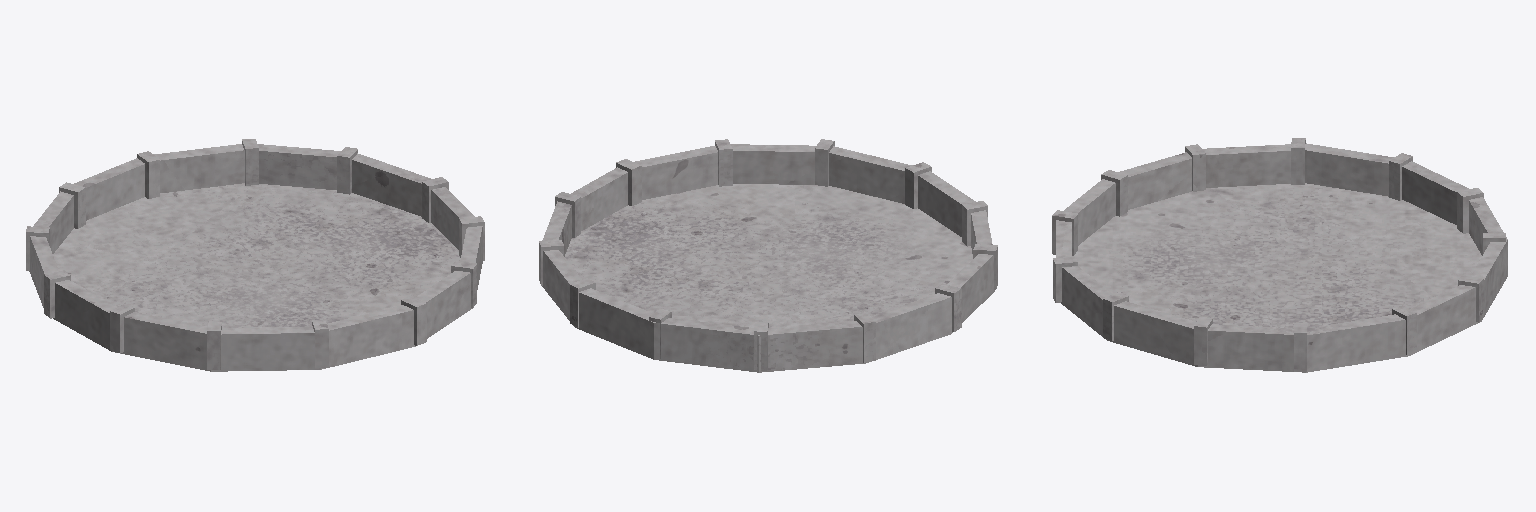
3 renders of one model, left to right at view 1: azimuth 30°, elevation 25°; view 2: azimuth 150°, elevation 25°; view 3: azimuth 270°, elevation 25°, orthographic.
Visible parts, largest first — view 1: stage.008_円柱.021; view 2: stage.008_円柱.021; view 3: stage.008_円柱.021.
Part boxes in pixels (left/top/right/bottom): stage.008_円柱.021: left=26, top=139, right=484, bottom=371; stage.008_円柱.021: left=539, top=139, right=997, bottom=372; stage.008_円柱.021: left=1052, top=138, right=1507, bottom=372.
Bounding box in the file's own units: 4.02 × 0.3951 × 3.98.
Materials: 1 (1 with a texture image).